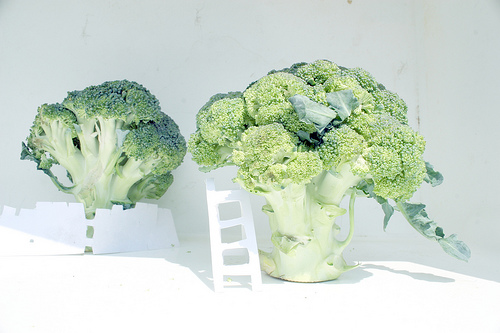broccoli: (190, 60, 473, 281), (24, 79, 184, 206)
